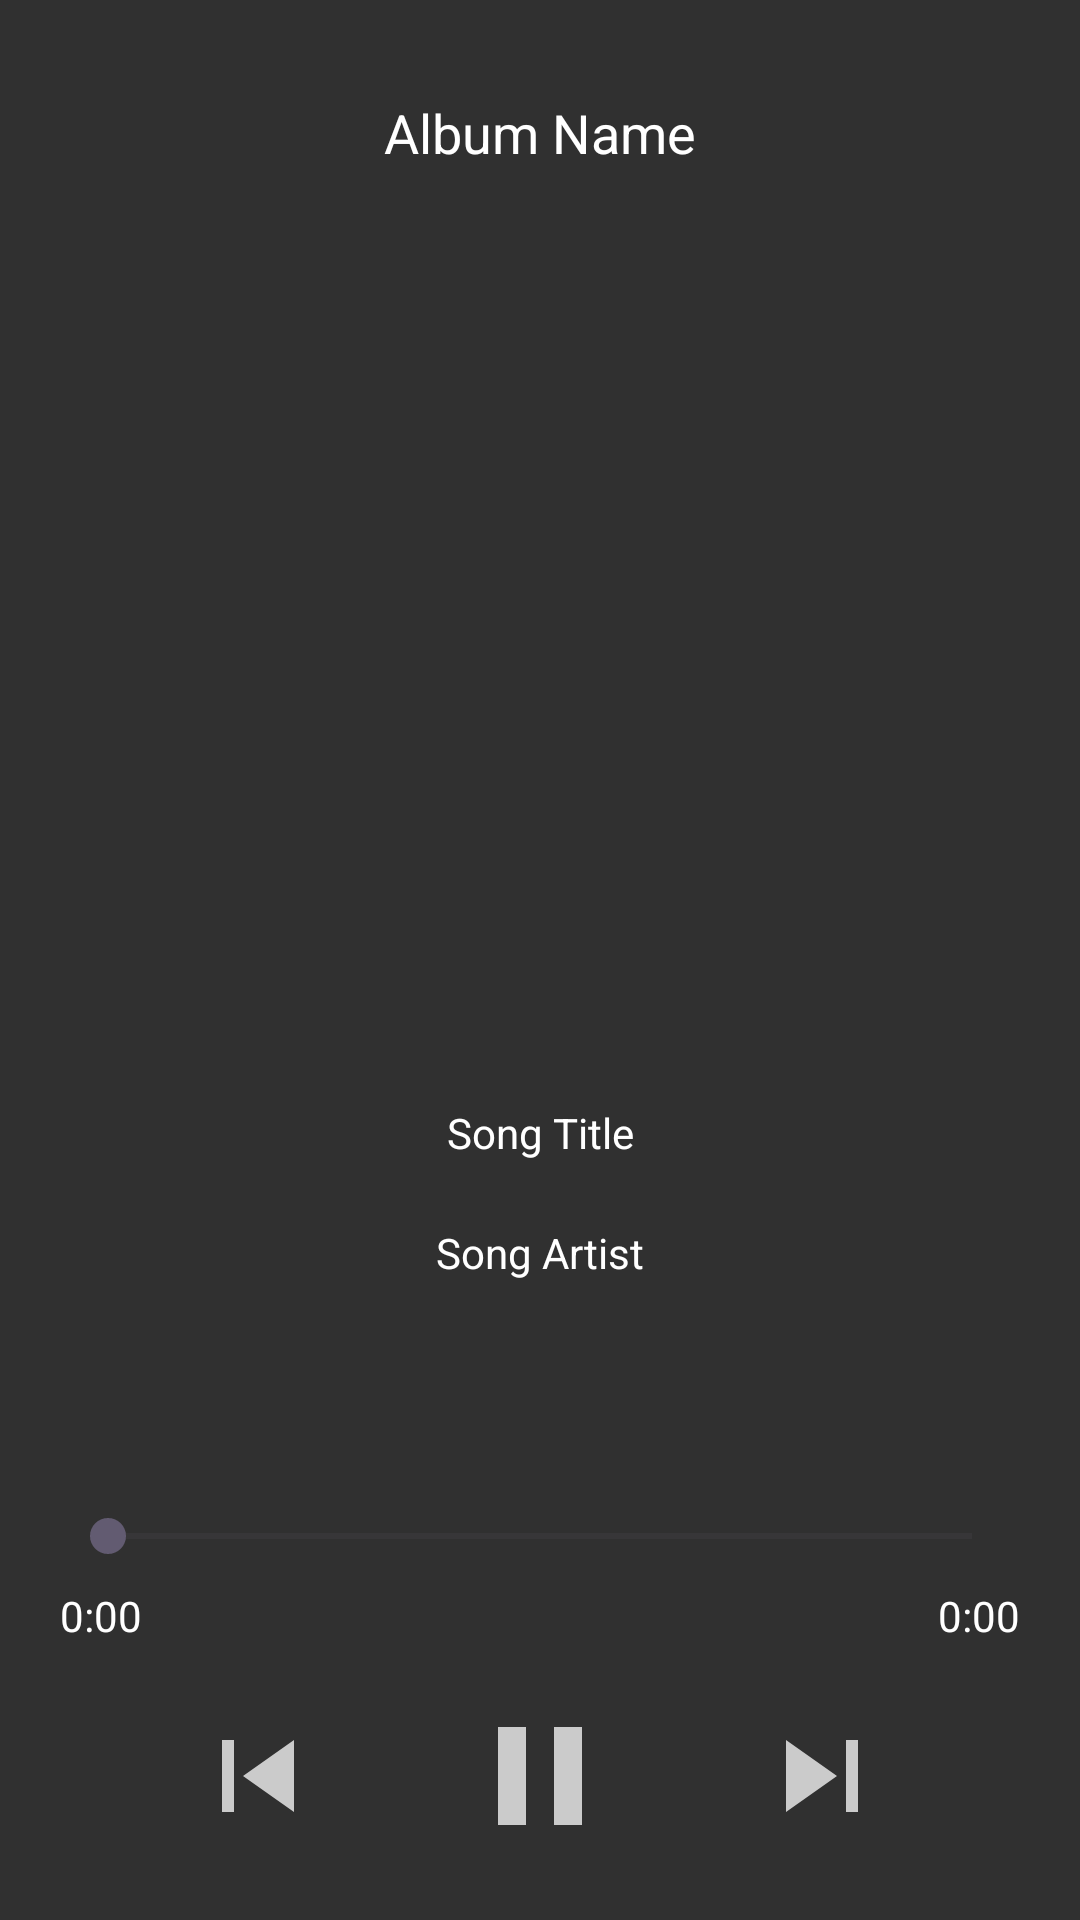

Where to tap for icons on this 1080w x 1920h app screen, as [x,y]:
next: [822,1776]
pause: [540,1776]
prev: [258,1776]
